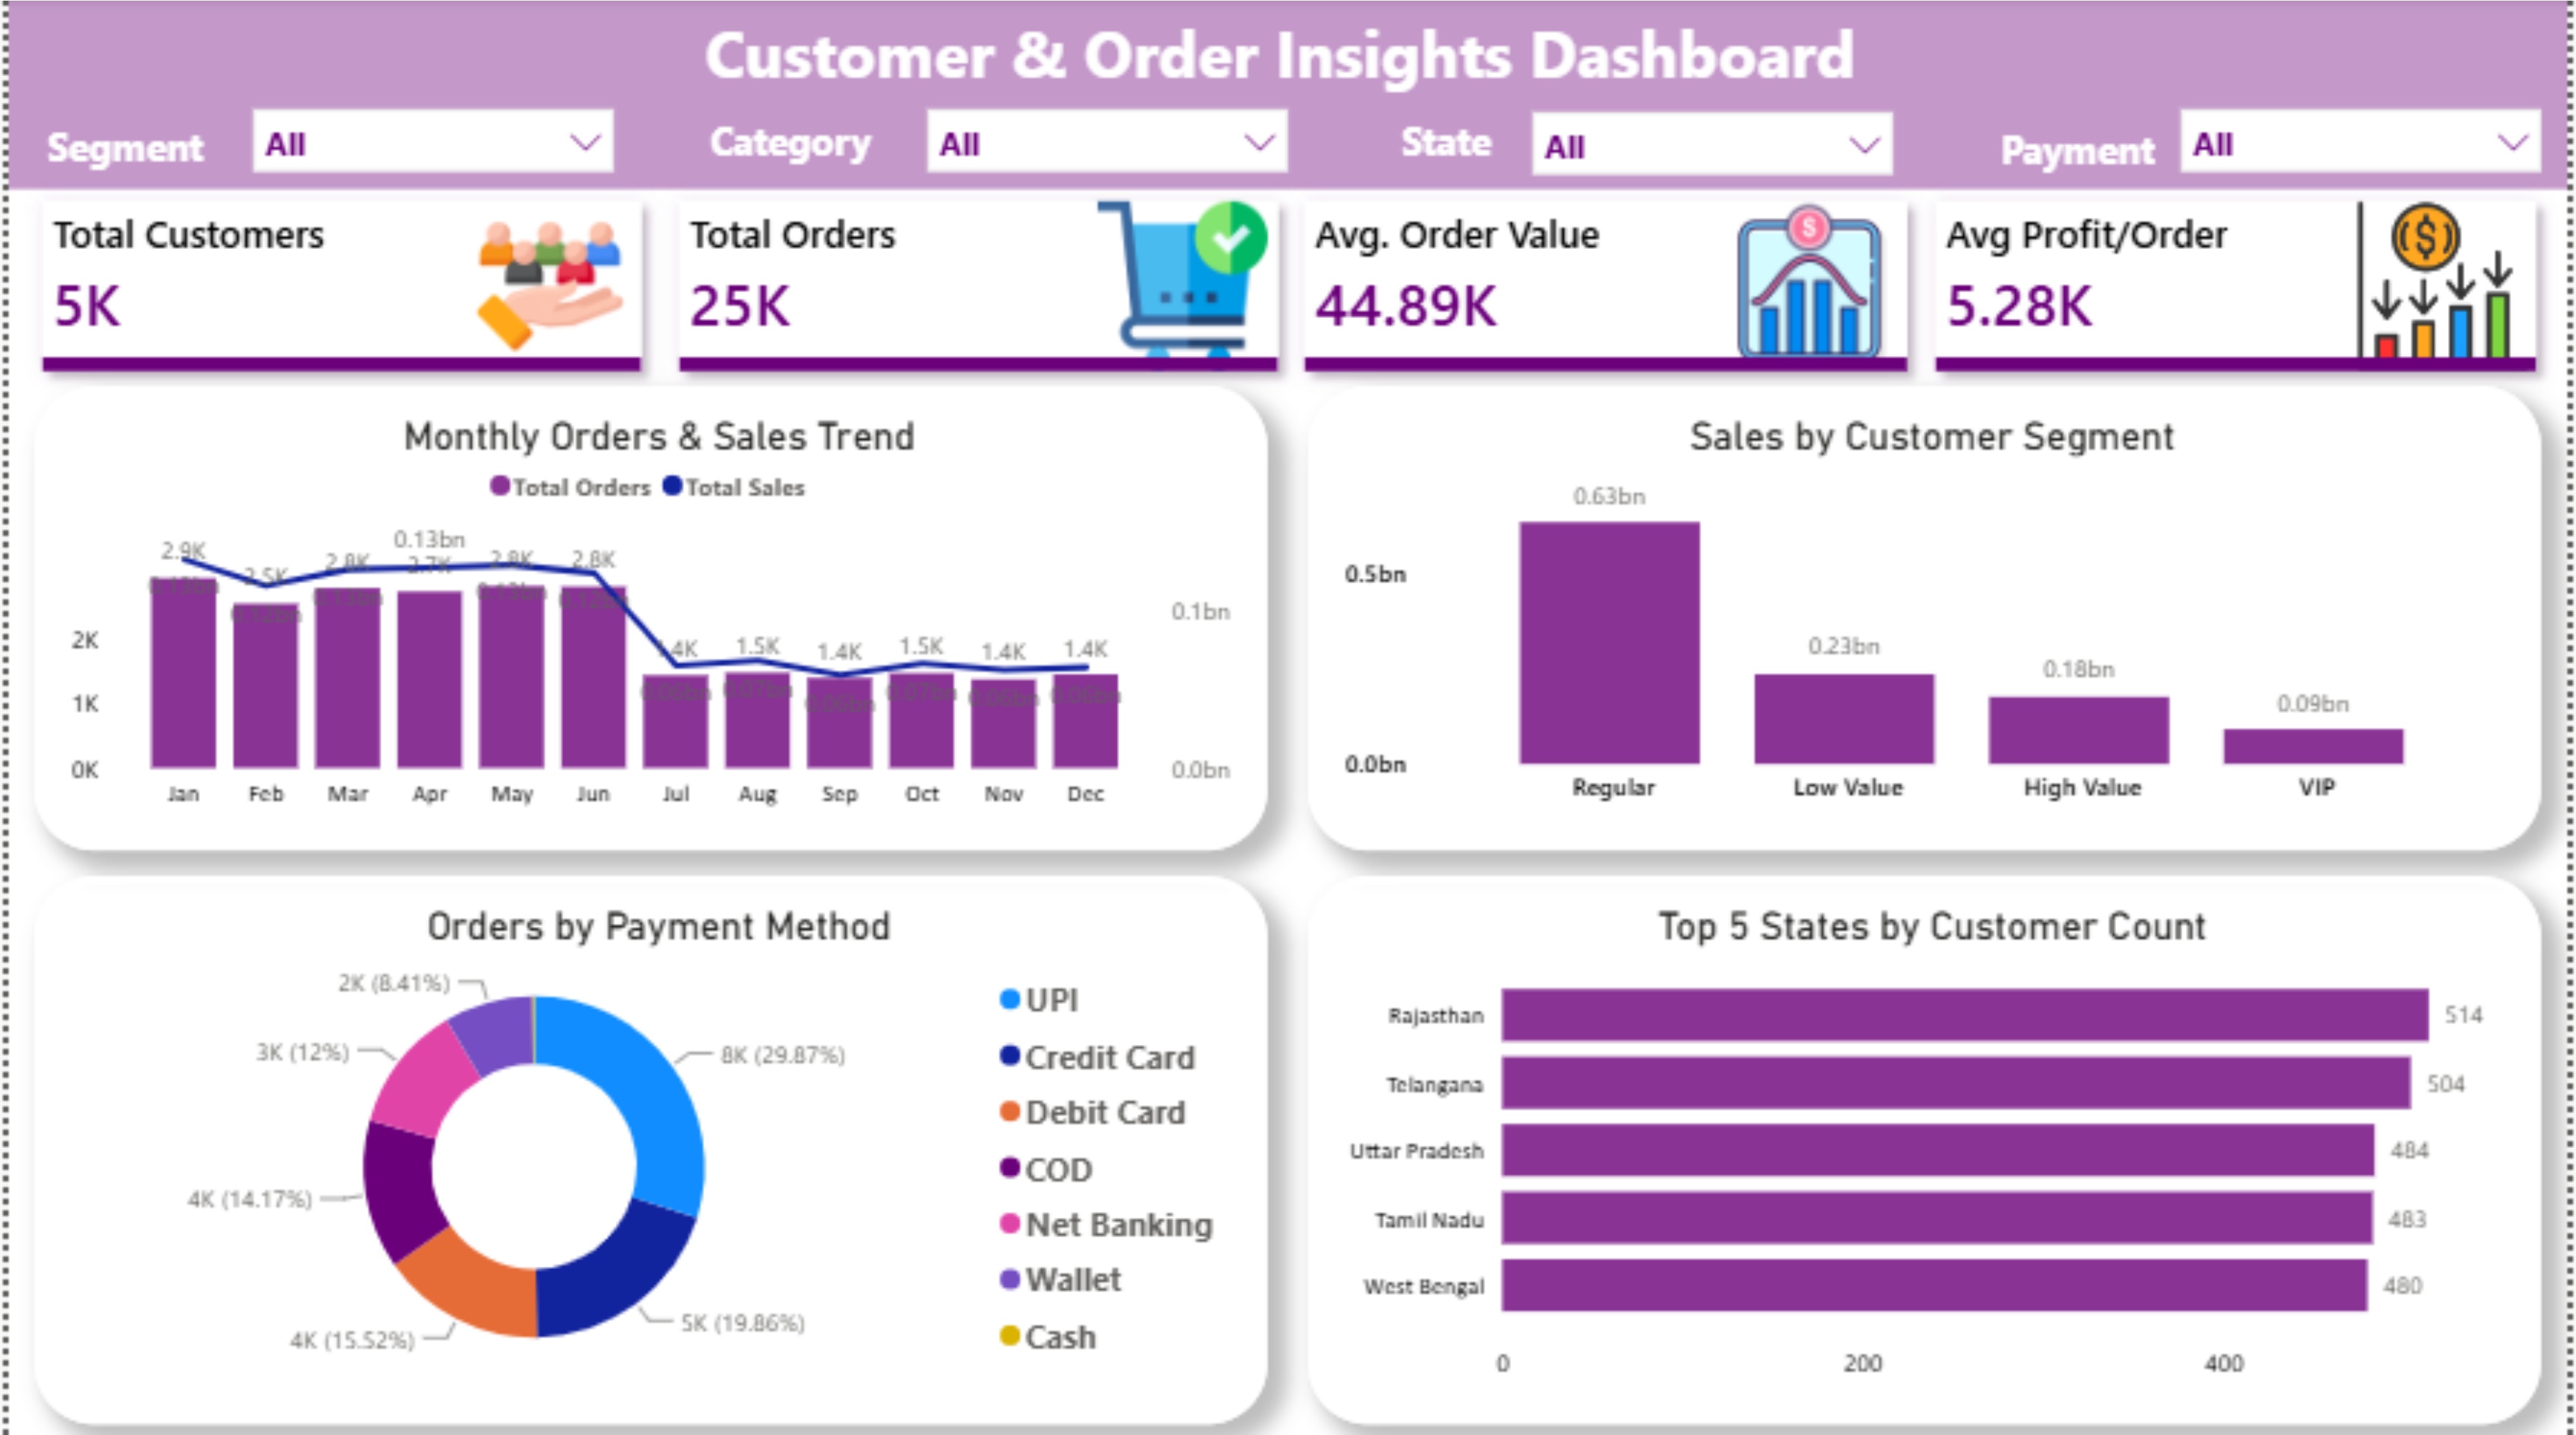

What the dashboard file says about the page in this screenshot:
{"tool":"powerbi","page":{"name":"Page 3","canvas":[1280,720],"ordinal":2},"visuals":[{"type":"textbox","box":[0,0,1280.2,96.5],"z":0},{"type":"slicer","title":"Segment","fields":{"Values":["ecommerce_analytics customers_clean.customer_segment"]},"box":[112.3,45.8,200.2,50.4],"z":1000},{"type":"textbox","box":[14.4,57.3,131,38.9],"z":2000},{"type":"cardVisual","fields":{"Data":["DateTable.Total Orders"]},"box":[317.8,85,333.8,119.5],"z":3000},{"type":"slicer","title":"Category","fields":{"Values":["ecommerce_analytics products_clean.category"]},"box":[449.3,45.8,200.2,50.4],"z":4000},{"type":"cardVisual","fields":{"Data":["DateTable.Total Customers"]},"box":[0,85,333.8,119.5],"z":5000},{"type":"textbox","box":[345.6,54.4,135.4,41.8],"z":6000},{"type":"cardVisual","fields":{"Data":["DateTable.Average Order Value"]},"box":[631.1,85,335,119.5],"z":7000},{"type":"slicer","title":"State","fields":{"Values":["ecommerce_analytics customers_clean.state"]},"box":[751.7,47.2,200.2,49],"z":8000},{"type":"textbox","box":[691.2,54.4,64.8,41.8],"z":9000},{"type":"slicer","title":"Payment","fields":{"Values":["ecommerce_analytics orders_clean.payment_method"]},"box":[1075.9,46.2,200,50],"z":10000},{"type":"textbox","box":[990.7,59,96.5,36],"z":11000},{"type":"cardVisual","fields":{"Data":["DateTable.Avg Profit per Order"]},"box":[945.7,85,334.4,119.5],"z":12000},{"type":"lineClusteredColumnComboChart","title":"Monthly Orders & Sales Trend","fields":{"Category":["DateTable.Month"],"Y":["DateTable.Total Orders"],"Y2":["DateTable.Total Sales"]},"box":[13,194.4,616.3,231.8],"z":13000},{"type":"columnChart","title":"Sales by Customer Segment","fields":{"Category":["ecommerce_analytics customers_clean.customer_segment"],"Y":["DateTable.Total Sales"]},"box":[649.4,194.4,616.3,231.8],"z":14000},{"type":"donutChart","title":"Orders by Payment Method","fields":{"Category":["ecommerce_analytics orders_clean.payment_method"],"Y":["DateTable.Total Orders"]},"box":[13,439.2,616.3,273.6],"z":15000},{"type":"barChart","title":"Top 5 States by Customer Count","fields":{"Category":["ecommerce_analytics customers_clean.state"],"Y":["DateTable.Total Customers 2"]},"box":[649,439,616,274],"z":16000}]}

Visuals, with their boxes in screenshot pixels (x1, y1, x2, y2), scaled from the page's 1280x720 canvas onto the 2576x1435 screenshot:
textbox: box=[0, 0, 2575, 192]
"Segment" slicer: box=[226, 91, 629, 192]
textbox: box=[29, 114, 293, 192]
cardVisual - DateTable.Total Orders: box=[640, 169, 1311, 407]
"Category" slicer: box=[905, 91, 1307, 192]
cardVisual - DateTable.Total Customers: box=[0, 169, 671, 407]
textbox: box=[696, 109, 968, 192]
cardVisual - DateTable.Average Order Value: box=[1270, 169, 1945, 407]
"State" slicer: box=[1513, 94, 1916, 192]
textbox: box=[1391, 109, 1521, 192]
"Payment" slicer: box=[2165, 92, 2568, 192]
textbox: box=[1994, 118, 2188, 189]
cardVisual - DateTable.Avg Profit per Order: box=[1903, 169, 2575, 407]
"Monthly Orders & Sales Trend" lineClusteredColumnComboChart: box=[26, 387, 1266, 849]
"Sales by Customer Segment" columnChart: box=[1307, 387, 2547, 849]
"Orders by Payment Method" donutChart: box=[26, 876, 1266, 1420]
"Top 5 States by Customer Count" barChart: box=[1306, 875, 2546, 1421]
